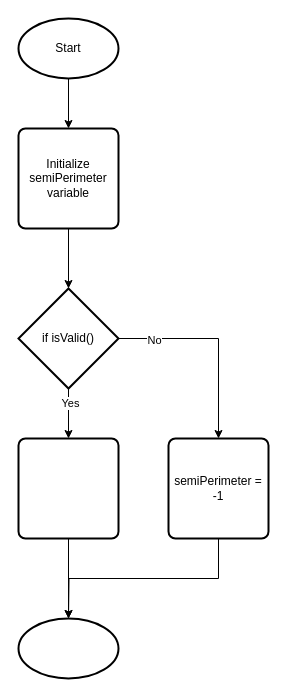
The diagram is 286 pixels wide and 696 high, and some of its shapes have lost their labels. Each missing label, with the box of its shape:
semiPerimeter = this.perimeter() / 2: (17, 437, 119, 539)
Stop: (17, 617, 119, 679)
